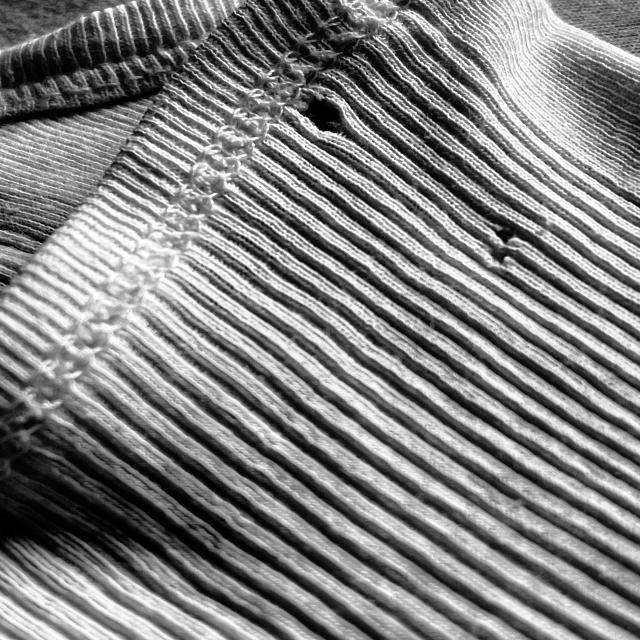Hole: (284, 83, 356, 147), (472, 216, 524, 271)
